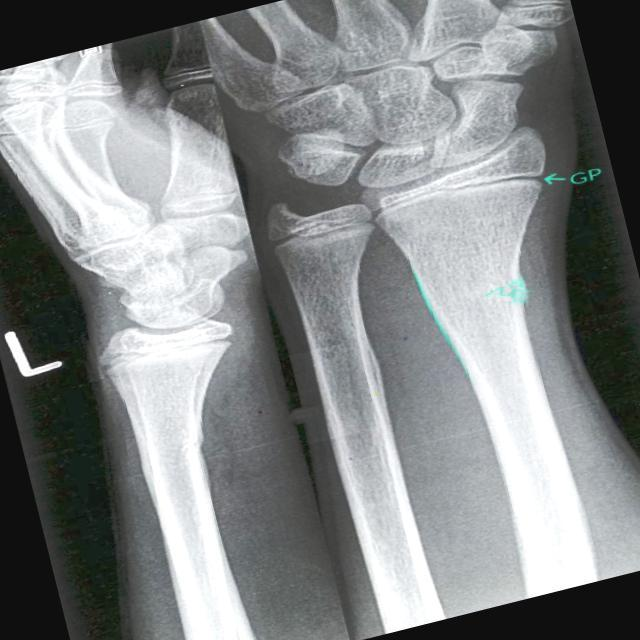GreenStick Fracture: (483, 272, 536, 309)
